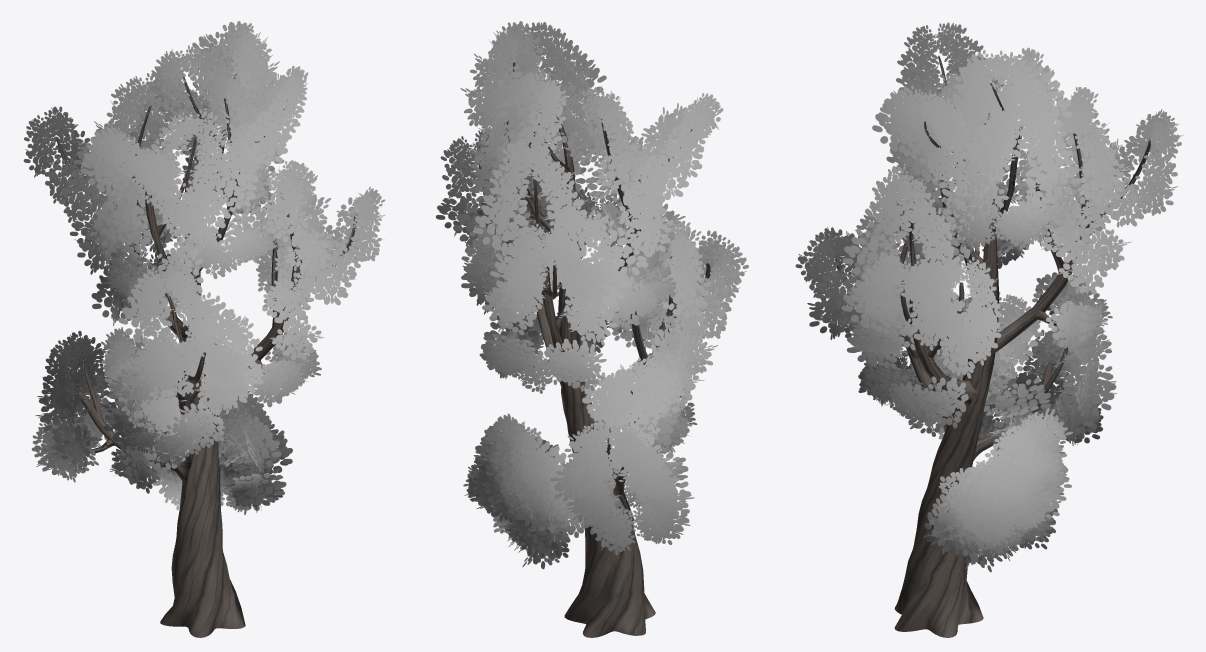
File: twisted-4.glb
The picture shows the model from 3 angles, left to right: view 1: azimuth 30°, elevation 25°; view 2: azimuth 150°, elevation 25°; view 3: azimuth 270°, elevation 25°; orthographic projection. The views are drawn at different scales.
Visible parts, largest first — view 1: tree_041; view 2: tree_041; view 3: tree_041.
Part boxes in pixels (x1,y1,x2,y2): tree_041: [23, 21, 385, 637]; tree_041: [436, 21, 748, 637]; tree_041: [795, 22, 1182, 637].
Size of the model in its own units: 10.38 by 18.74 by 11.29.
2 materials, 2 textured.
